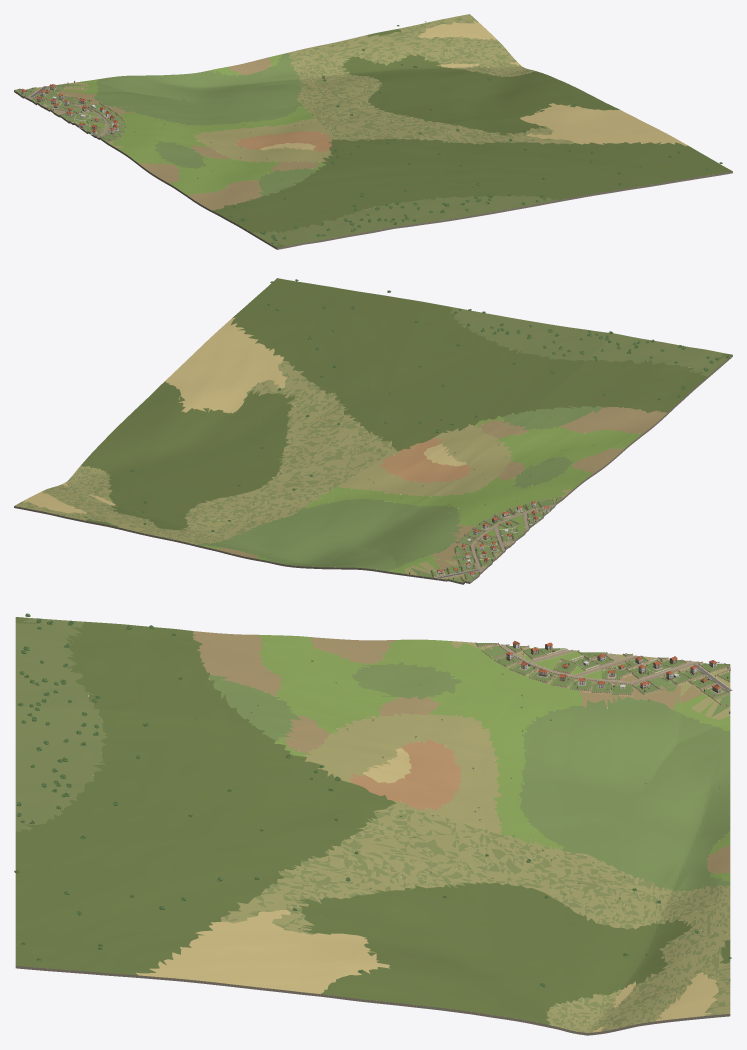
File: parca_+10_-1-yakin.glb
The picture shows the model from 3 angles, top to bottom: view 1: azimuth 30°, elevation 25°; view 2: azimuth 150°, elevation 25°; view 3: azimuth 270°, elevation 25°; orthographic projection. The views are drawn at different scales.
Parts seen in each view (by area): view 1: parca_+10_-1_arazi, parca_+10_-1_bitkiler, parca_+10_-1_duvarlar, parca_+10_-1_yapilar; view 2: parca_+10_-1_arazi, parca_+10_-1_bitkiler, parca_+10_-1_duvarlar, parca_+10_-1_yapilar, parca_+10_-1_yollar; view 3: parca_+10_-1_arazi, parca_+10_-1_duvarlar, parca_+10_-1_bitkiler, parca_+10_-1_yapilar, parca_+10_-1_yollar.
Boxes of the visible parts, <box> form: parca_+10_-1_arazi: <box>14,14,732,249</box>; parca_+10_-1_bitkiler: <box>18,21,722,244</box>; parca_+10_-1_duvarlar: <box>15,83,125,142</box>; parca_+10_-1_yapilar: <box>21,84,118,135</box>; parca_+10_-1_arazi: <box>14,278,732,584</box>; parca_+10_-1_bitkiler: <box>57,279,729,582</box>; parca_+10_-1_duvarlar: <box>419,497,563,581</box>; parca_+10_-1_yapilar: <box>436,501,549,577</box>; parca_+10_-1_yollar: <box>437,505,554,579</box>; parca_+10_-1_arazi: <box>15,617,730,1035</box>; parca_+10_-1_duvarlar: <box>475,642,730,706</box>; parca_+10_-1_bitkiler: <box>14,613,731,1022</box>; parca_+10_-1_yapilar: <box>506,641,723,693</box>; parca_+10_-1_yollar: <box>500,644,732,691</box>.
Size of the model in its own units: 1006 by 186 by 1006.
